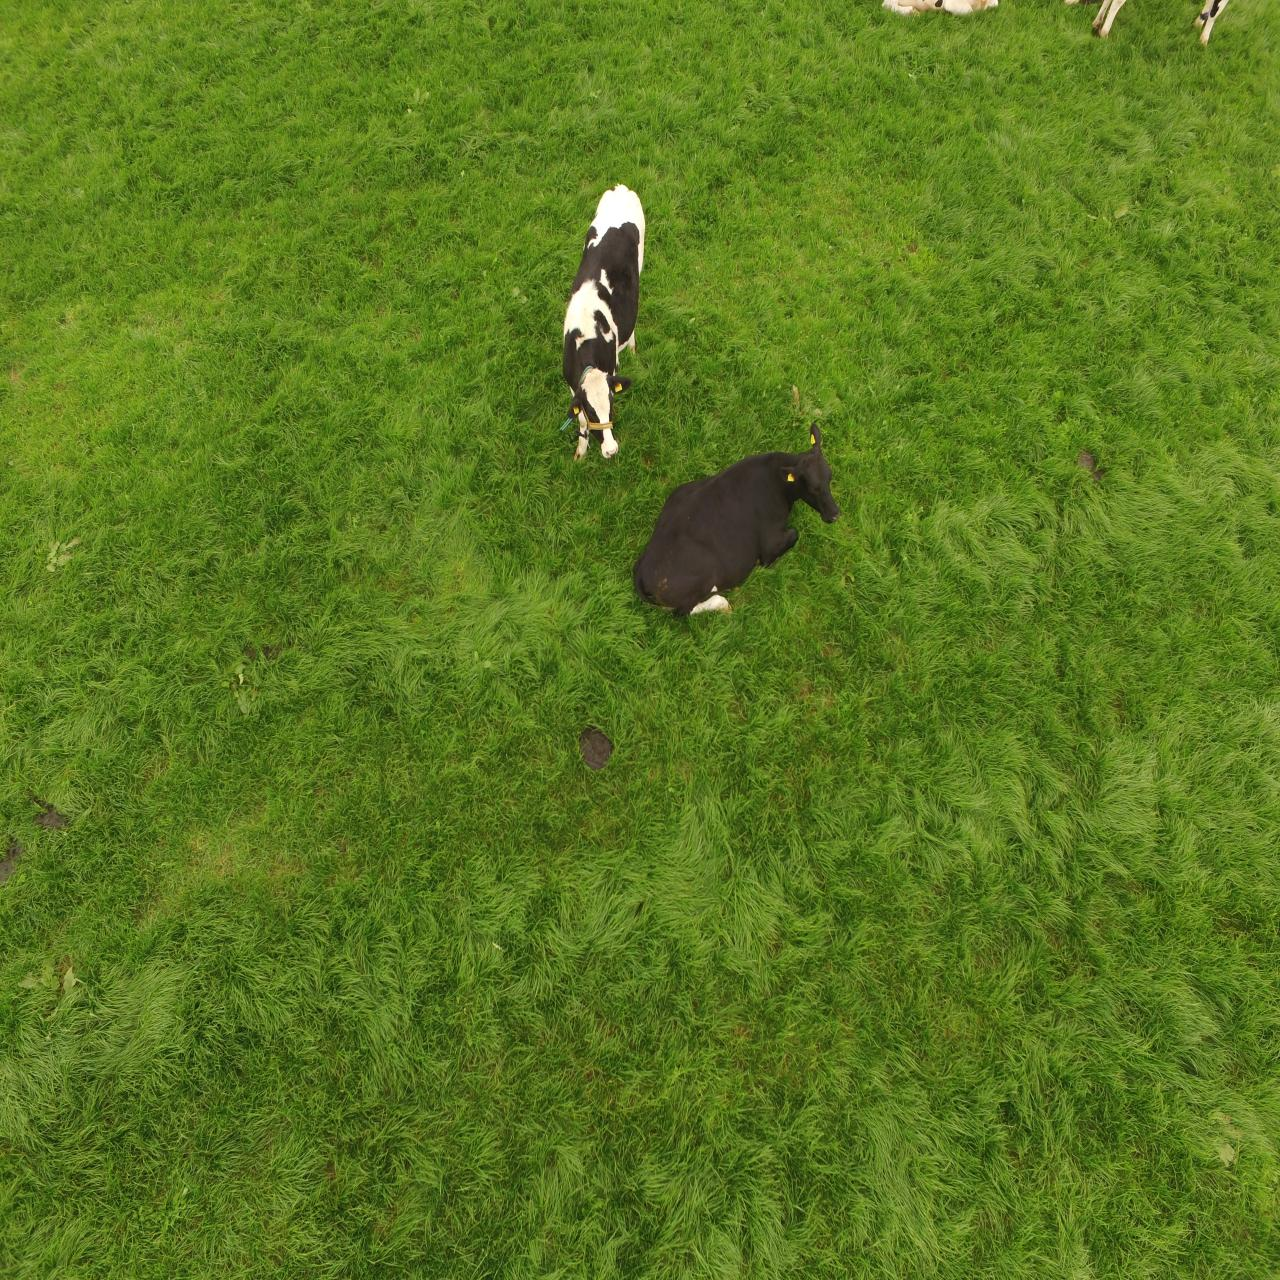cow: (533, 165, 656, 504), (635, 441, 849, 626)
